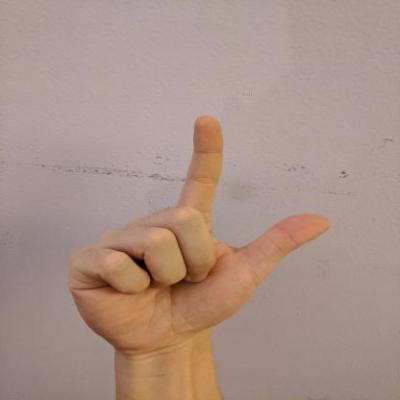hand: (64, 110, 336, 360)
